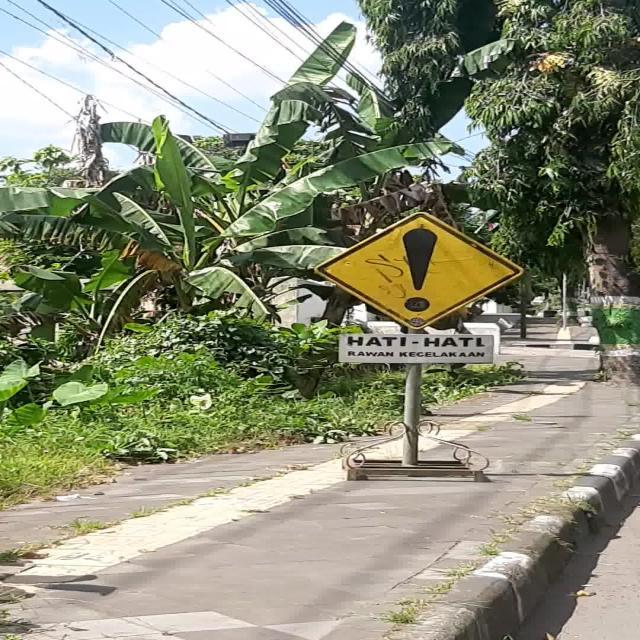Hati-Hati: (314, 212, 524, 330)
